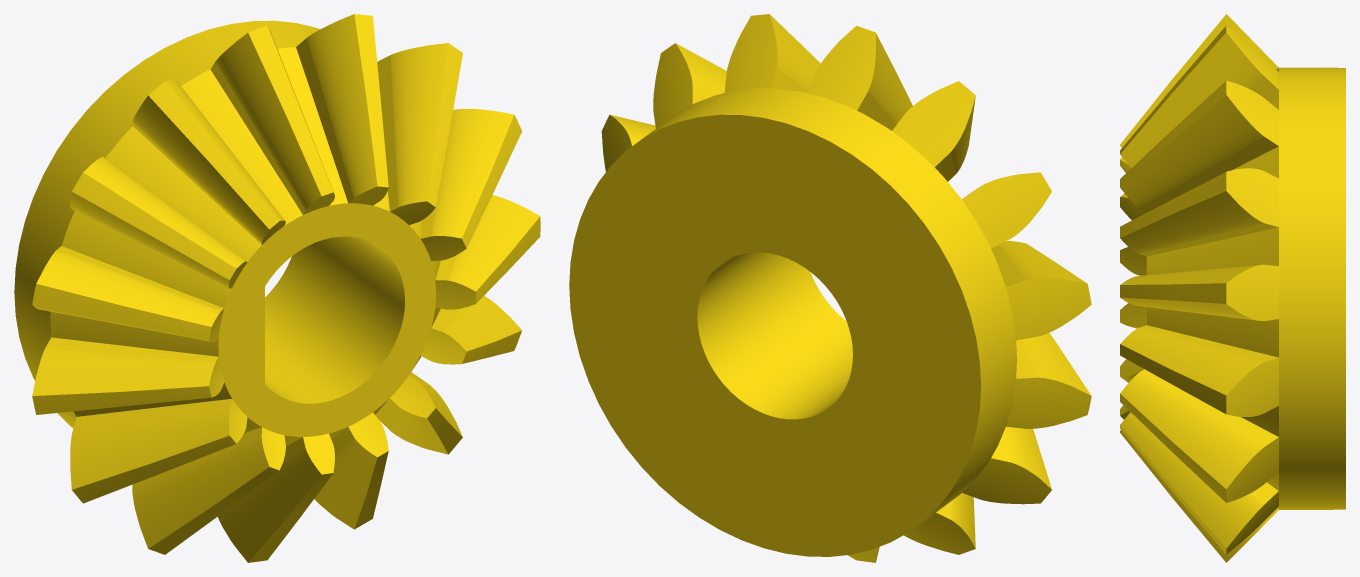
File: A26_H104_drivingGear.gltf
3 renders of one model, left to right at view 1: azimuth 30°, elevation 25°; view 2: azimuth 150°, elevation 25°; view 3: azimuth 270°, elevation 25°, orthographic. The views are drawn at different scales.
Parts seen in each view (by area): view 1: mesh3413, mesh3410, mesh3519, mesh3462, mesh3516, mesh3508, mesh3454, mesh3470, mesh3521, mesh3500, mesh3479, mesh3478 (+44 smaller); view 2: mesh3409, mesh3519, mesh3410, mesh3482, mesh3490, mesh3474, mesh3498, mesh3466, mesh3506, mesh3458, mesh3514, mesh3500 (+9 smaller); view 3: mesh3519, mesh3421, mesh3510, mesh3502, mesh3428, mesh3529, mesh3518, mesh3511, mesh3527, mesh3523, mesh3514, mesh3530 (+26 smaller).
Part boxes in pixels (bbox=[...]): mesh3413: bbox=[218, 203, 435, 436]; mesh3410: bbox=[265, 236, 404, 403]; mesh3519: bbox=[14, 20, 319, 427]; mesh3462: bbox=[70, 407, 229, 489]; mesh3516: bbox=[390, 43, 448, 207]; mesh3508: bbox=[306, 14, 377, 197]; mesh3454: bbox=[132, 437, 269, 548]; mesh3470: bbox=[32, 348, 215, 395]; mesh3521: bbox=[431, 109, 513, 238]; mesh3500: bbox=[215, 33, 321, 210]; mesh3479: bbox=[105, 126, 261, 261]; mesh3478: bbox=[36, 250, 220, 326]; mesh3409: bbox=[569, 114, 980, 556]; mesh3519: bbox=[643, 88, 1016, 527]; mesh3410: bbox=[697, 252, 852, 419]; mesh3482: bbox=[962, 172, 1051, 248]; mesh3490: bbox=[892, 81, 975, 166]; mesh3474: bbox=[1006, 278, 1091, 340]; mesh3498: bbox=[808, 25, 875, 110]; mesh3466: bbox=[1006, 377, 1091, 428]; mesh3506: bbox=[724, 14, 777, 92]; mesh3458: bbox=[962, 458, 1051, 504]; mesh3514: bbox=[653, 43, 692, 128]; mesh3500: bbox=[868, 33, 912, 124]; mesh3519: bbox=[1279, 67, 1345, 509]; mesh3421: bbox=[1120, 372, 1263, 489]; mesh3510: bbox=[1120, 95, 1263, 207]; mesh3502: bbox=[1120, 32, 1263, 167]; mesh3428: bbox=[1120, 412, 1263, 548]; mesh3529: bbox=[1120, 327, 1263, 395]; mesh3518: bbox=[1120, 191, 1263, 253]; mesh3511: bbox=[1146, 227, 1278, 275]; mesh3527: bbox=[1146, 307, 1278, 357]; mesh3523: bbox=[1226, 264, 1278, 321]; mesh3514: bbox=[1226, 168, 1278, 227]; mesh3530: bbox=[1226, 357, 1278, 416].
Size of the model in its own units: 0.0163 by 0.0164 by 0.00675.
